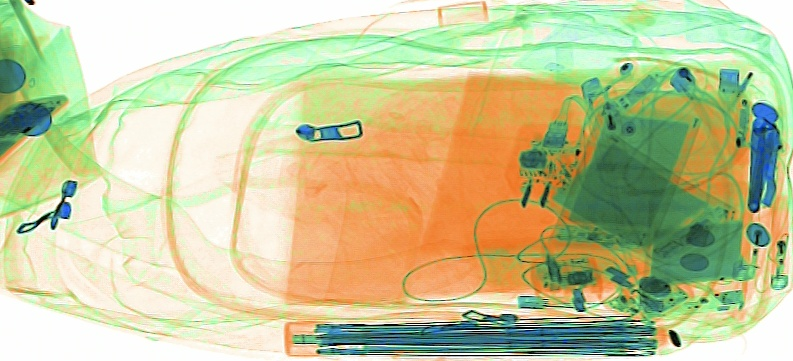lighter: (727, 169, 766, 283), (766, 190, 791, 293)
